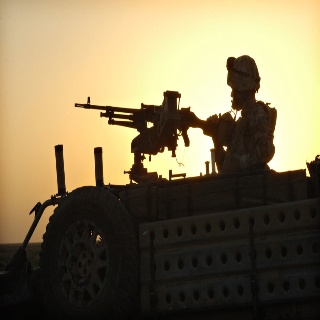rifle: (73, 90, 213, 157)
